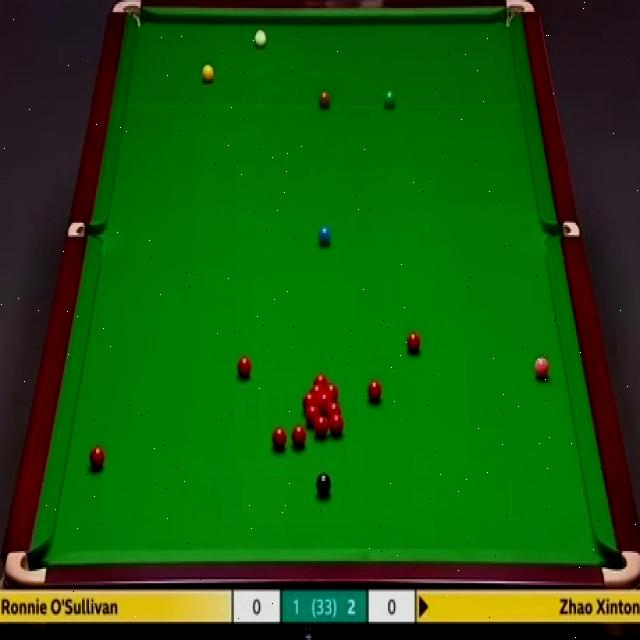black-ball: (316, 470, 332, 500)
blue-ball: (318, 225, 332, 247)
brown-ball: (318, 89, 331, 109)
green-ball: (383, 89, 397, 109)
pink-ball: (534, 354, 550, 380)
red-ball: (236, 354, 253, 382), (88, 445, 105, 472), (291, 423, 307, 451), (270, 425, 287, 450), (407, 330, 422, 355), (329, 414, 344, 438), (367, 378, 382, 402), (323, 382, 339, 402), (305, 404, 319, 426), (315, 416, 328, 439), (316, 391, 331, 410), (302, 391, 316, 409), (327, 404, 341, 417), (309, 384, 324, 394), (314, 374, 328, 384)
white-ball: (253, 29, 266, 52)
yellow-ball: (202, 64, 216, 85)
